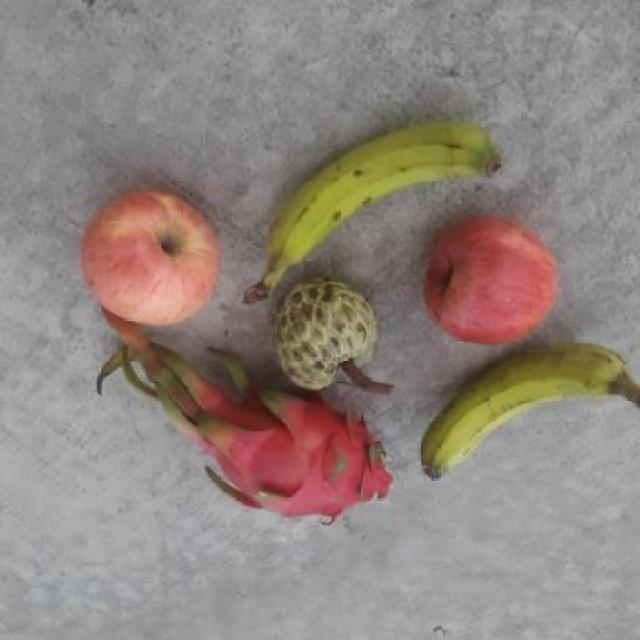apple: (77, 180, 225, 326), (419, 212, 559, 346)
banana: (239, 115, 510, 306), (418, 342, 640, 483)
dragon fruit: (201, 377, 395, 525)
sugar apple: (270, 272, 399, 396)
